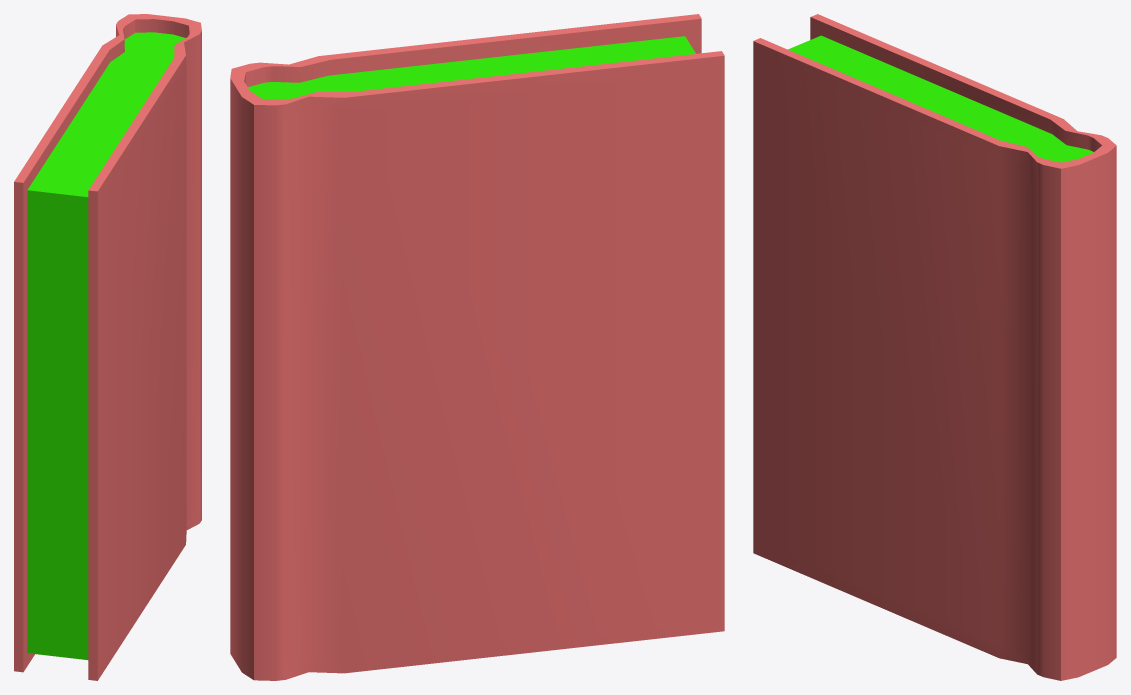
File: book (2).FBX
3 renders of one model, left to right at view 1: azimuth 30°, elevation 25°; view 2: azimuth 150°, elevation 25°; view 3: azimuth 270°, elevation 25°, orthographic. The views are drawn at different scales.
Visible parts, largest first — view 1: Box005; view 2: Box005; view 3: Box005.
Part boxes in pixels (x1,y1,x2,y2): Box005: (14, 14, 201, 680); Box005: (230, 14, 724, 680); Box005: (753, 14, 1116, 680).
Bounding box in the file's own units: 279 × 430 × 277.
